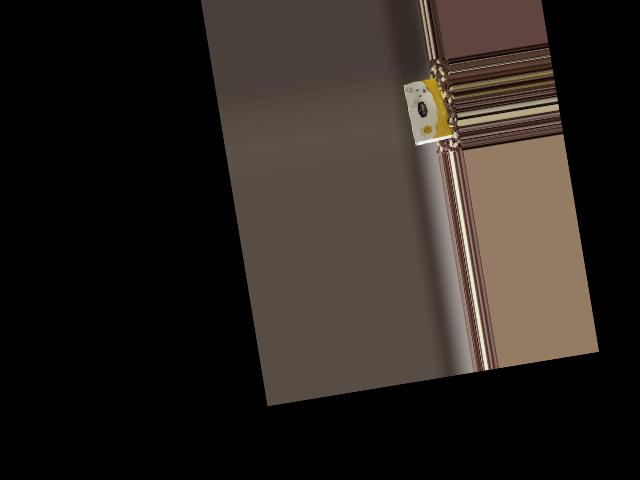chocolate: (400, 72, 456, 149)
